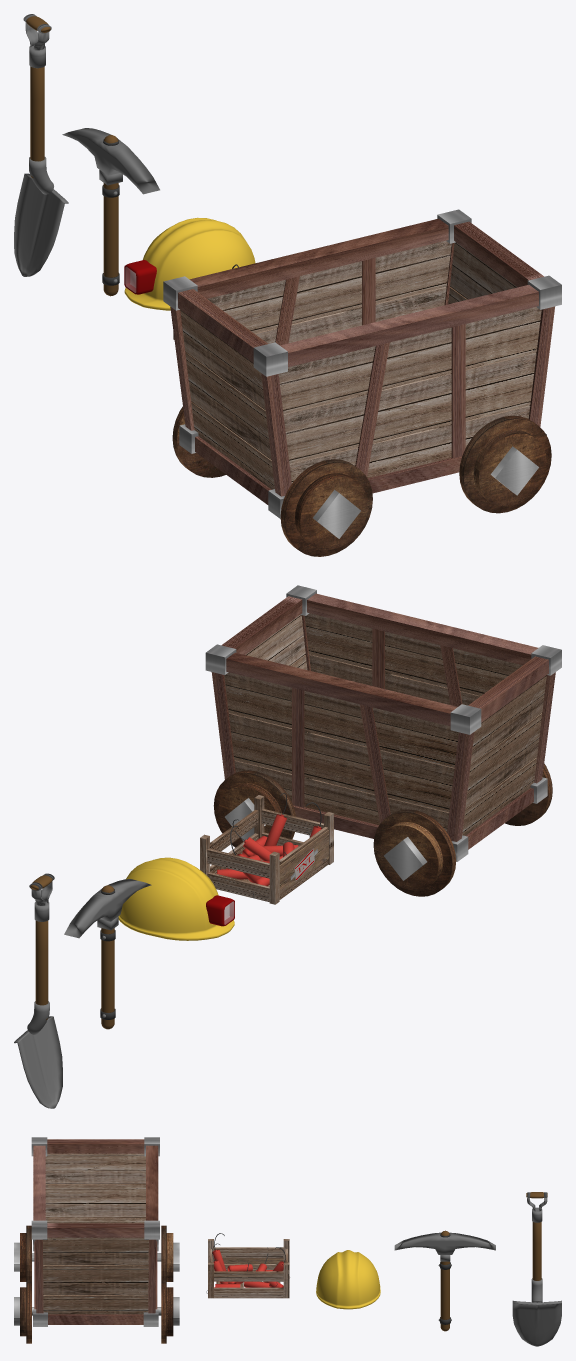
File: miners_set.glb
3 views of the same model, one above another, from view 1: azimuth 30°, elevation 25°; view 2: azimuth 150°, elevation 25°; view 3: azimuth 270°, elevation 25° (orthographic). The views are drawn at different scales.
Parts seen in each view (by area): view 1: Cube.018, Cylinder.022_Material.016_0, Cube.021, Roundcube.005, Cube.026, Cube.019, Plane.002, Cube.022, Cube.017, Cube.020, Cylinder.037_Material.013_0, Cube (+6 smaller); view 2: Cube.018, Cube.021, Cylinder.022_Material.016_0, Roundcube.005, Cube.026, Cube.019, Plane.002, Cube.022, Cube.017, Cube.020, Cube, Cube.014 (+11 smaller); view 3: Cube.018, Roundcube.005, Cube.019, Cylinder.022_Material.016_0, Cube.021, Plane.002, Cube, Cube.026, Cube.022, Cube.023, Cube.005, Cube.007 (+9 smaller).
Part boxes in pixels (x1=…): Cube.018: x1=180, y1=240, x2=541, y2=489; Cylinder.022_Material.016_0: x1=172, y1=406, x2=551, y2=556; Cube.021: x1=189, y1=218, x2=538, y2=367; Roundcube.005: x1=124, y1=217, x2=255, y2=310; Cube.026: x1=170, y1=243, x2=554, y2=496; Cube.019: x1=178, y1=221, x2=543, y2=362; Plane.002: x1=14, y1=173, x2=68, y2=276; Cube.022: x1=163, y1=209, x2=561, y2=376; Cube.017: x1=361, y1=258, x2=465, y2=458; Cube.020: x1=275, y1=276, x2=389, y2=476; Cylinder.037_Material.013_0: x1=313, y1=446, x2=538, y2=538; Cube: x1=62, y1=128, x2=159, y2=194; Cube.018: x1=224, y1=613, x2=546, y2=835; Cube.021: x1=226, y1=593, x2=538, y2=726; Cylinder.022_Material.016_0: x1=213, y1=763, x2=552, y2=896; Roundcube.005: x1=118, y1=857, x2=234, y2=940; Cube.026: x1=211, y1=615, x2=555, y2=841; Cube.019: x1=221, y1=596, x2=548, y2=722; Plane.002: x1=14, y1=1016, x2=62, y2=1108; Cube.022: x1=205, y1=585, x2=561, y2=734; Cube.017: x1=292, y1=628, x2=385, y2=807; Cube.020: x1=359, y1=645, x2=462, y2=823; Cube: x1=64, y1=879, x2=151, y2=938; Cube.014: x1=200, y1=795, x2=333, y2=904; Cube.018: x1=43, y1=1153, x2=148, y2=1314; Roundcube.005: x1=316, y1=1250, x2=380, y2=1309; Cube.019: x1=47, y1=1139, x2=144, y2=1237; Cylinder.022_Material.016_0: x1=20, y1=1225, x2=173, y2=1343; Cube.021: x1=33, y1=1145, x2=158, y2=1220; Plane.002: x1=512, y1=1300, x2=561, y2=1346; Cube: x1=394, y1=1232, x2=495, y2=1254; Cube.026: x1=35, y1=1239, x2=156, y2=1313; Cube.022: x1=31, y1=1137, x2=159, y2=1239; Cube.023: x1=48, y1=1314, x2=143, y2=1324; Cube.005: x1=214, y1=1287, x2=283, y2=1298; Cube.007: x1=214, y1=1271, x2=283, y2=1281.
Bounding box in the file's own units: 1.55 × 1.29 × 4.
17 materials, 11 textured.
